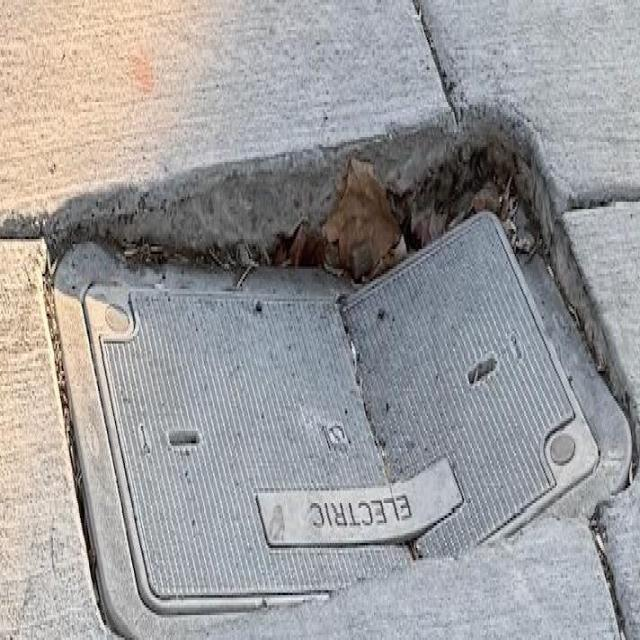hole: (30, 88, 634, 640)
